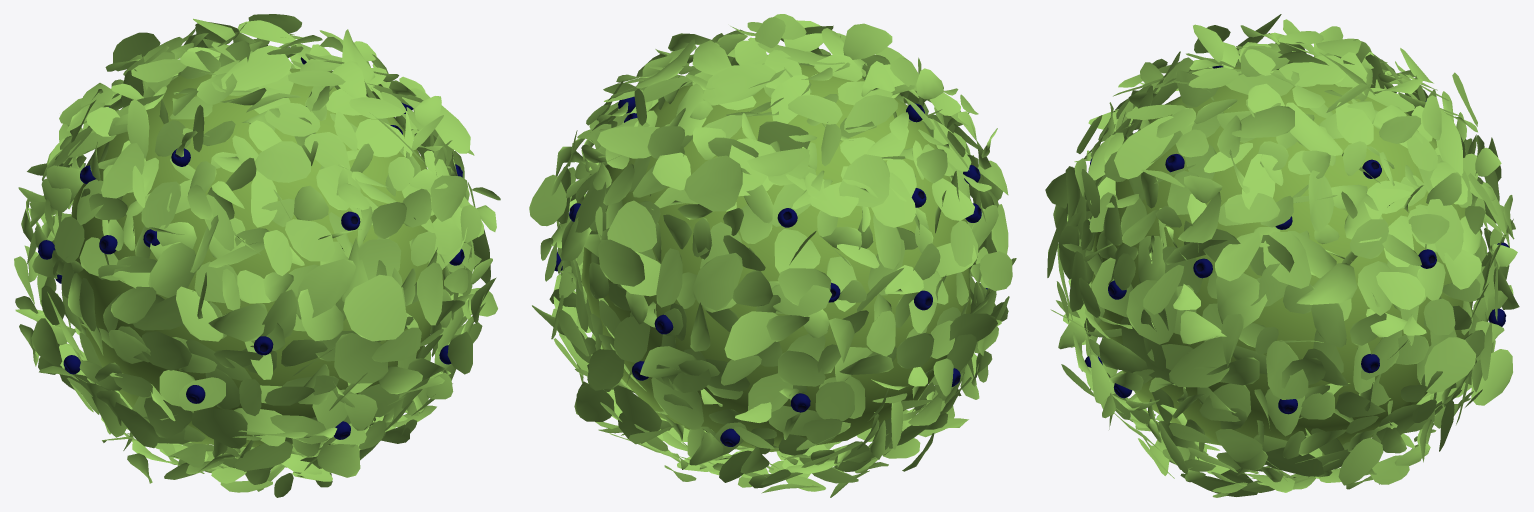
The model's file is berry_bush.fbx.
The picture shows the model from 3 angles, left to right: view 1: azimuth 30°, elevation 25°; view 2: azimuth 150°, elevation 25°; view 3: azimuth 270°, elevation 25°; orthographic projection.
Parts seen in each view (by area): view 1: bush, berry cluster; view 2: bush, berry cluster; view 3: bush, berry cluster.
Boxes of the visible parts, box(x1,y1,x2,y2) form: bush: box(14, 14, 500, 497); berry cluster: box(38, 57, 464, 439); bush: box(529, 14, 1016, 497); berry cluster: box(554, 79, 987, 446); bush: box(1045, 14, 1519, 497); berry cluster: box(1085, 65, 1509, 414).
Size of the model in its own units: 131 by 136 by 131.
